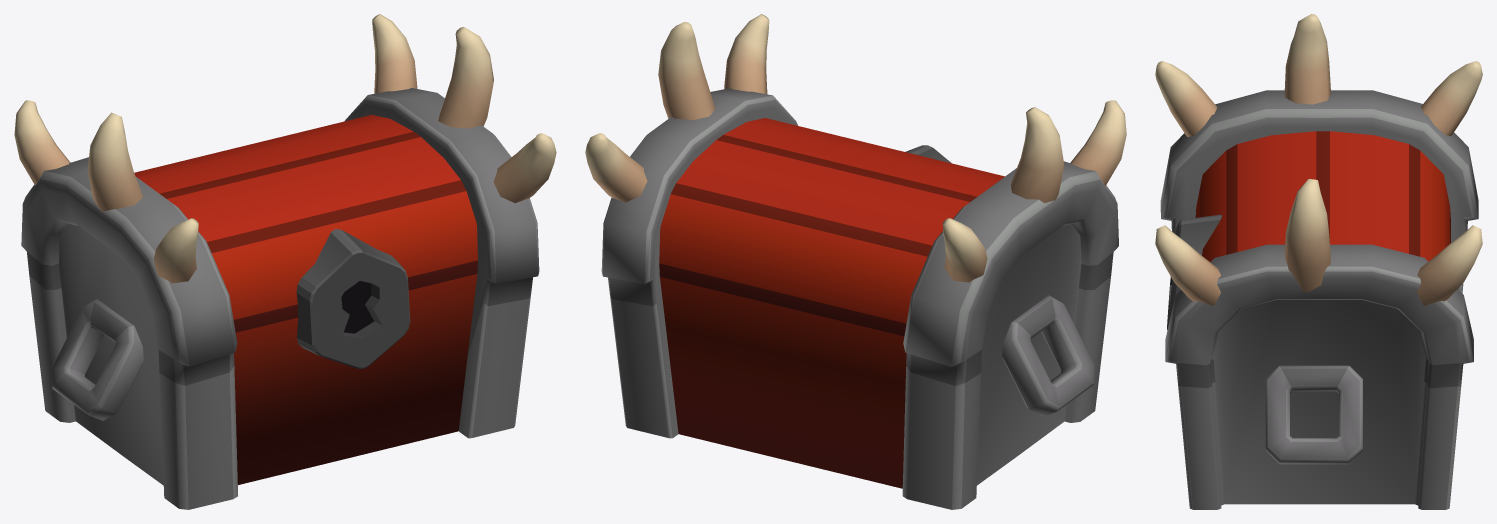
Rendered from Chest_1.fbx.
3 renders of one model, left to right at view 1: azimuth 30°, elevation 25°; view 2: azimuth 150°, elevation 25°; view 3: azimuth 270°, elevation 25°, orthographic. The views are drawn at different scales.
Parts seen in each view (by area): view 1: Chest_1; view 2: Chest_1; view 3: Chest_1.
Part boxes in pixels (<box>): Chest_1: <box>14,14,556,509</box>; Chest_1: <box>585,14,1126,509</box>; Chest_1: <box>1155,14,1482,509</box>.
Size of the model in its own units: 143 by 112 by 99.08.
